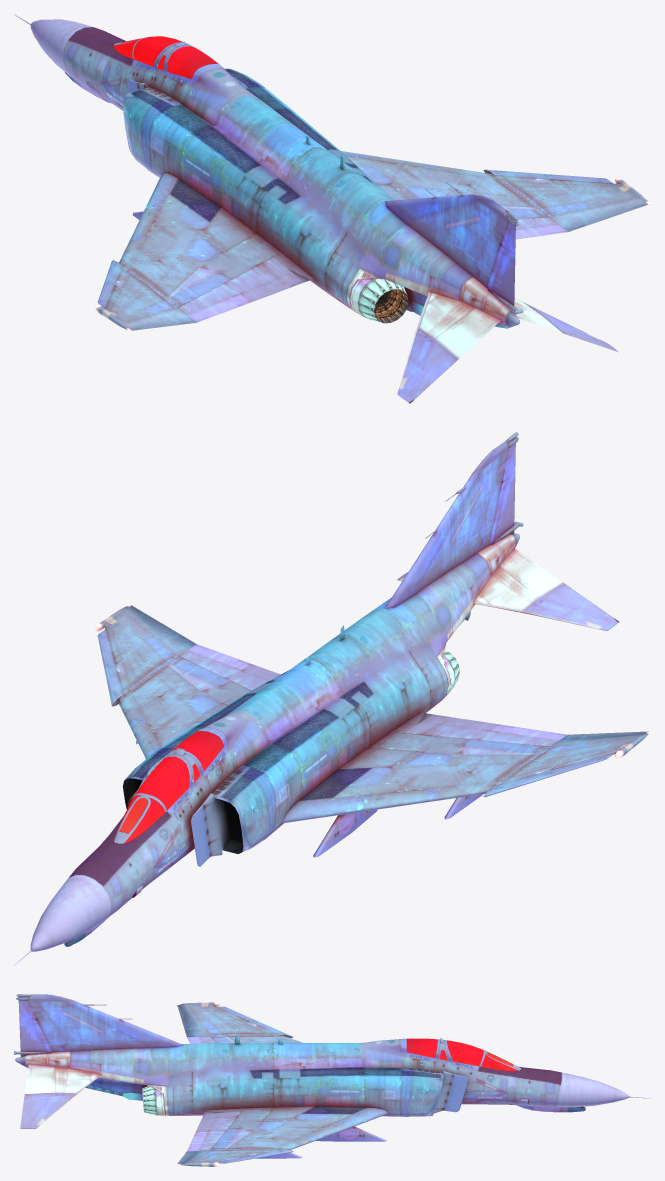
3 views of the same model, one above another, from view 1: azimuth 30°, elevation 25°; view 2: azimuth 150°, elevation 25°; view 3: azimuth 270°, elevation 25° (orthographic). The views are drawn at different scales.
Visible parts, largest first — view 1: F-4E_Phantom_II_LOD0, F-4E_Phantom_II_ElevatorL01, F-4E_Phantom_II_Glass_Canopy02, F-4E_Phantom_II_FlapL01, F-4E_Phantom_II_EngineL01, F-4E_Phantom_II_RudderL01, F-4E_Phantom_II_AileronL01, F-4E_Phantom_II_ElevatorR01, F-4E_Phantom_II_AileronR01, F-4E_Phantom_II_VoletR01; view 2: F-4E_Phantom_II_LOD0, F-4E_Phantom_II_ElevatorL01, F-4E_Phantom_II_Glass_Canopy02, F-4E_Phantom_II_FlapL01, F-4E_Phantom_II_RudderL01, F-4E_Phantom_II_AileronL01, F-4E_Phantom_II_AileronR01, F-4E_Phantom_II_VoletL01, F-4E_Phantom_II_VoletR01, F-4E_Phantom_II_FlapR01; view 3: F-4E_Phantom_II_LOD0, F-4E_Phantom_II_ElevatorR01, F-4E_Phantom_II_Glass_Canopy02, F-4E_Phantom_II_RudderL01, F-4E_Phantom_II_FlapR01, F-4E_Phantom_II_AileronR01, F-4E_Phantom_II_EngineR01, F-4E_Phantom_II_VoletL01, F-4E_Phantom_II_VoletR01, F-4E_Phantom_II_Canopy02, F-4E_Phantom_II_Hook.
Boxes of the visible parts, left/top/right/bottom form: F-4E_Phantom_II_LOD0: left=14, top=14, right=650, bottom=331; F-4E_Phantom_II_ElevatorL01: left=397, top=292, right=501, bottom=403; F-4E_Phantom_II_Glass_Canopy02: left=114, top=36, right=218, bottom=78; F-4E_Phantom_II_FlapL01: left=227, top=256, right=303, bottom=301; F-4E_Phantom_II_EngineL01: left=358, top=278, right=408, bottom=323; F-4E_Phantom_II_RudderL01: left=486, top=221, right=515, bottom=305; F-4E_Phantom_II_AileronL01: left=178, top=281, right=251, bottom=322; F-4E_Phantom_II_ElevatorR01: left=514, top=298, right=618, bottom=352; F-4E_Phantom_II_AileronR01: left=515, top=217, right=567, bottom=239; F-4E_Phantom_II_VoletR01: left=483, top=169, right=612, bottom=183; F-4E_Phantom_II_LOD0: left=14, top=432, right=650, bottom=965; F-4E_Phantom_II_ElevatorL01: left=474, top=548, right=618, bottom=630; F-4E_Phantom_II_Glass_Canopy02: left=114, top=731, right=224, bottom=843; F-4E_Phantom_II_FlapL01: left=403, top=714, right=498, bottom=739; F-4E_Phantom_II_RudderL01: left=489, top=443, right=515, bottom=544; F-4E_Phantom_II_AileronL01: left=474, top=724, right=567, bottom=746; F-4E_Phantom_II_AileronR01: left=179, top=644, right=251, bottom=679; F-4E_Phantom_II_VoletL01: left=483, top=752, right=613, bottom=797; F-4E_Phantom_II_VoletR01: left=97, top=629, right=123, bottom=706; F-4E_Phantom_II_FlapR01: left=227, top=664, right=280, bottom=690; F-4E_Phantom_II_LOD0: left=14, top=994, right=650, bottom=1166; F-4E_Phantom_II_ElevatorR01: left=20, top=1064, right=102, bottom=1128; F-4E_Phantom_II_Glass_Canopy02: left=406, top=1038, right=518, bottom=1071; F-4E_Phantom_II_RudderL01: left=18, top=1000, right=53, bottom=1051; F-4E_Phantom_II_FlapR01: left=196, top=1111, right=242, bottom=1131; F-4E_Phantom_II_AileronR01: left=187, top=1130, right=226, bottom=1151; F-4E_Phantom_II_EngineR01: left=142, top=1086, right=157, bottom=1115; F-4E_Phantom_II_VoletL01: left=216, top=1006, right=293, bottom=1038; F-4E_Phantom_II_VoletR01: left=217, top=1149, right=293, bottom=1163; F-4E_Phantom_II_Canopy02: left=399, top=1038, right=439, bottom=1061; F-4E_Phantom_II_Hook: left=85, top=1085, right=142, bottom=1100.
Size of the model in its own units: 12.68 by 4.33 by 21.07.
Materials: 4 (4 with a texture image).
